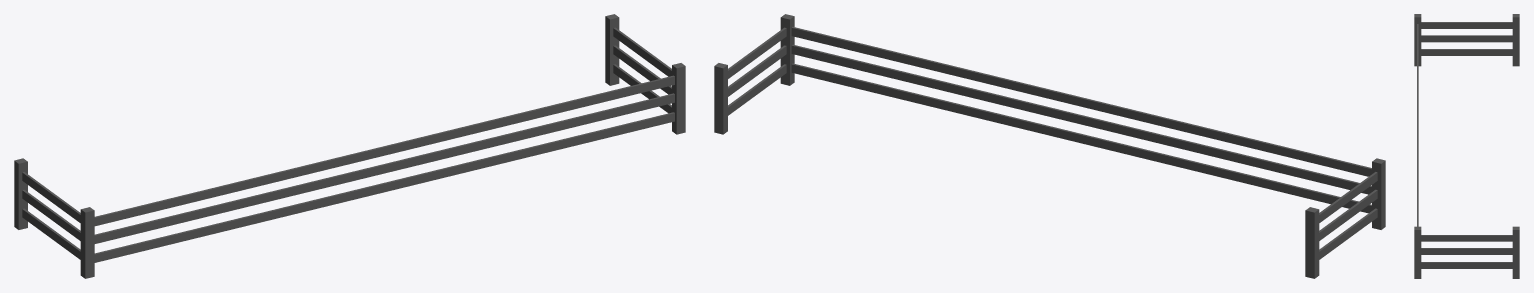
The model's file is Fence_4.fbx.
3 views of the same model, side by side, from view 1: azimuth 30°, elevation 25°; view 2: azimuth 150°, elevation 25°; view 3: azimuth 270°, elevation 25° (orthographic). The views are drawn at different scales.
Parts seen in each view (by area): view 1: Fence_4; view 2: Fence_4; view 3: Fence_4.
Boxes of the visible parts, x1=… form: Fence_4: x1=14, y1=14, x2=685, y2=278; Fence_4: x1=714, y1=14, x2=1385, y2=278; Fence_4: x1=1414, y1=14, x2=1519, y2=278.
Size of the model in its own units: 1230 by 253 by 130.
